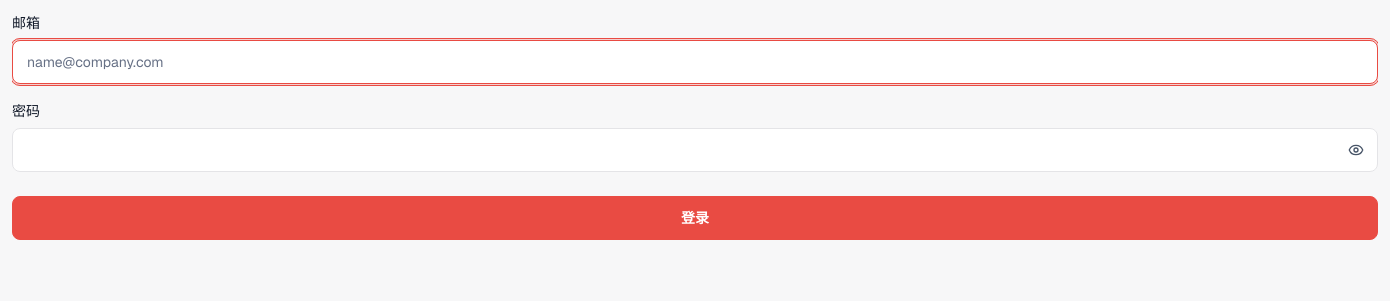
Test: LoginForm › validates email and password before submitting
This screenshot has width=1390, height=301.
Click the button "登录".
click(695, 218)  # box [12,196,1378,240]
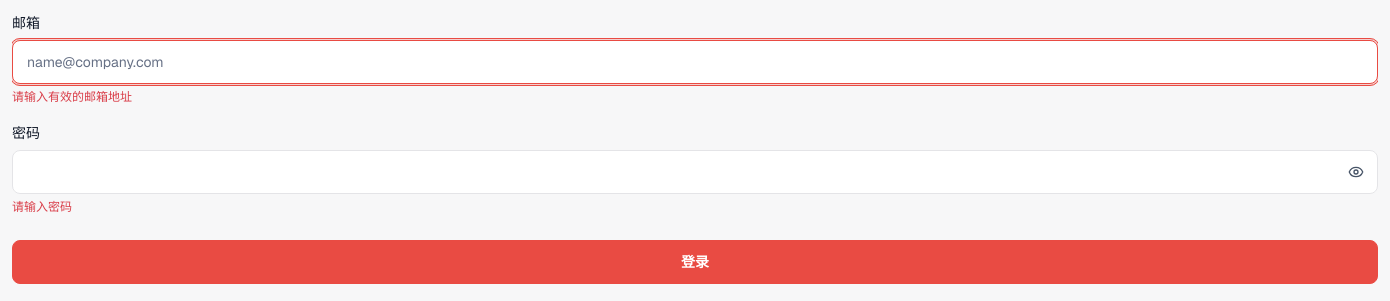
Now the text "请输入有效的邮箱地址" is shown, box [12,89,132,105]
Now the text "请输入密码" is shown, box [12,199,72,215]
